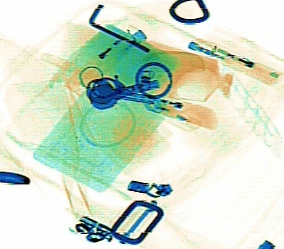lighter: (62, 23, 147, 95), (187, 35, 281, 85), (142, 91, 218, 129)
